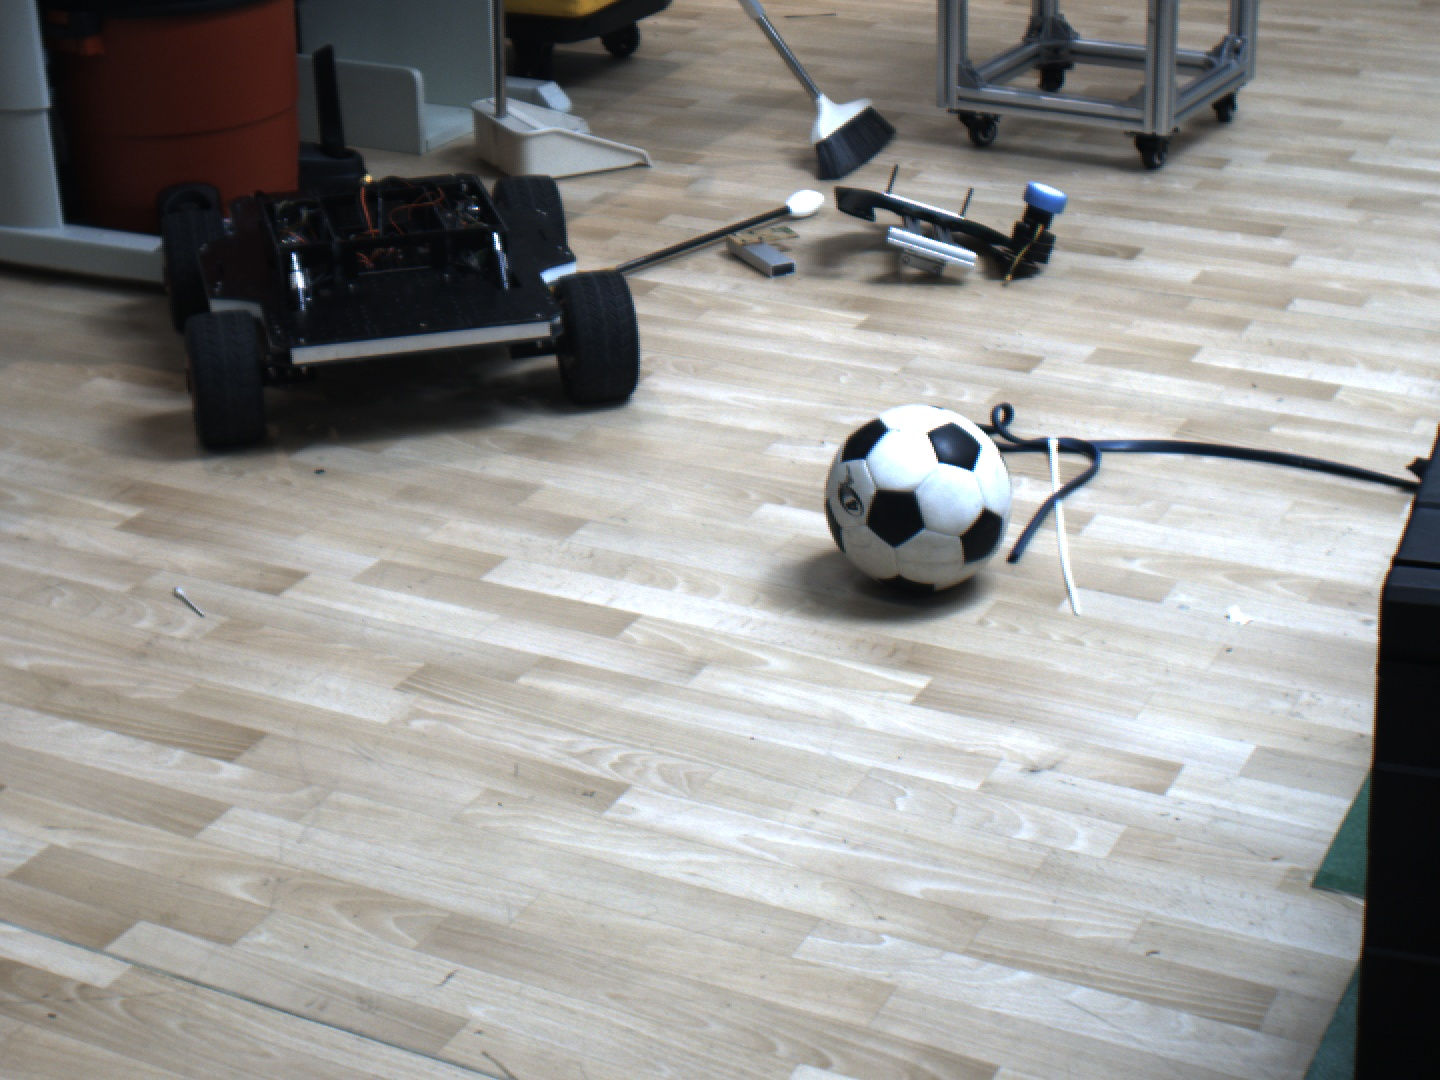ball: (808, 398, 1027, 605)
